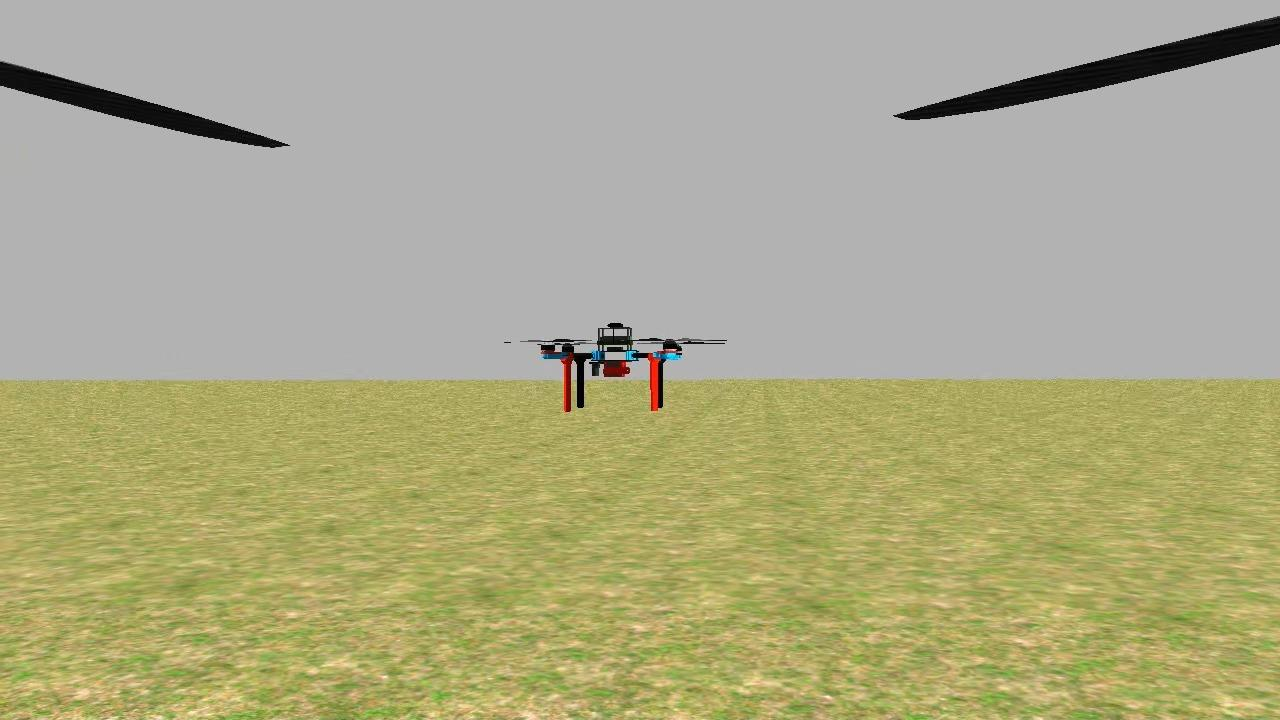UAV: (528, 301, 697, 430)
